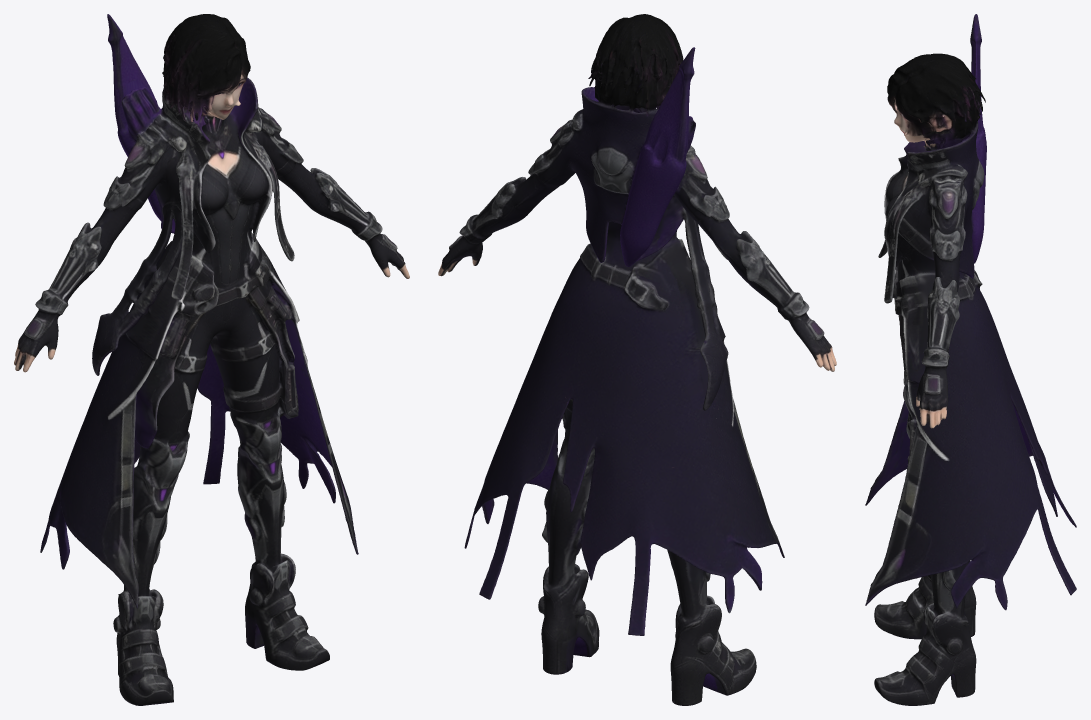
File: lyra.glb
The picture shows the model from 3 angles, left to right: view 1: azimuth 30°, elevation 25°; view 2: azimuth 150°, elevation 25°; view 3: azimuth 270°, elevation 25°; orthographic projection. The views are drawn at different scales.
Size of the model in its own units: 1.18 by 1.9 by 0.5949.
Materials: 1 (1 with a texture image).
